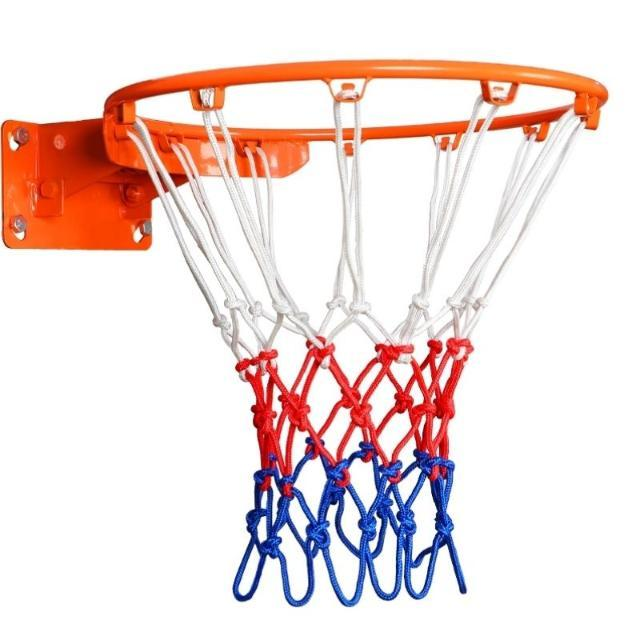rim: (106, 57, 608, 607)
